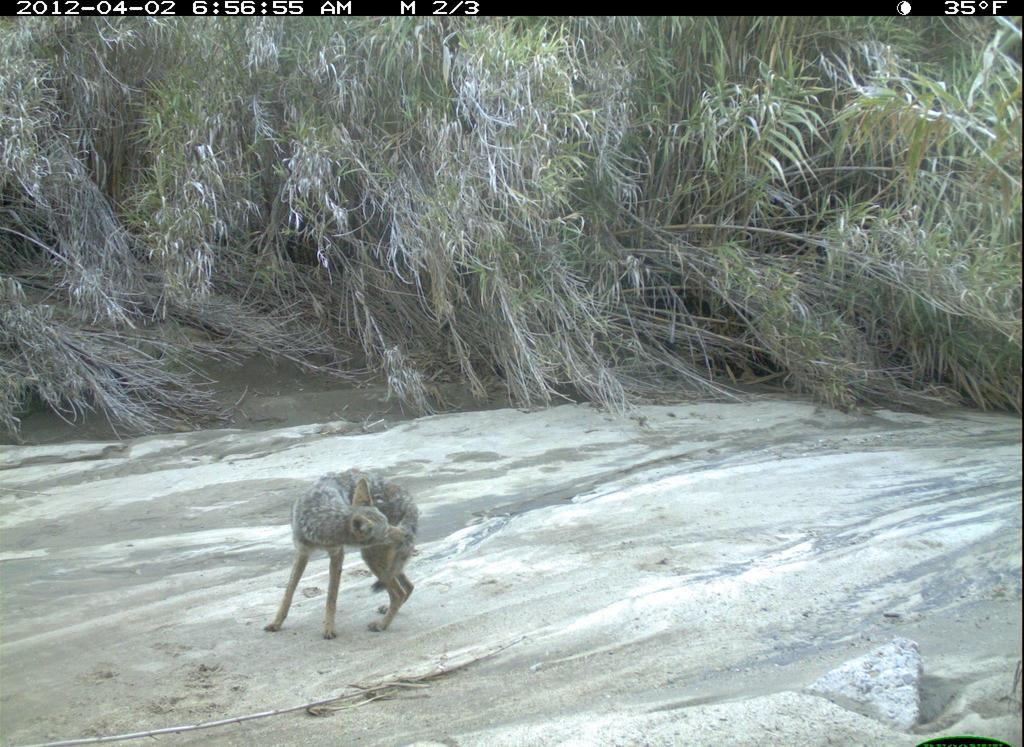coyote: (258, 463, 428, 652)
